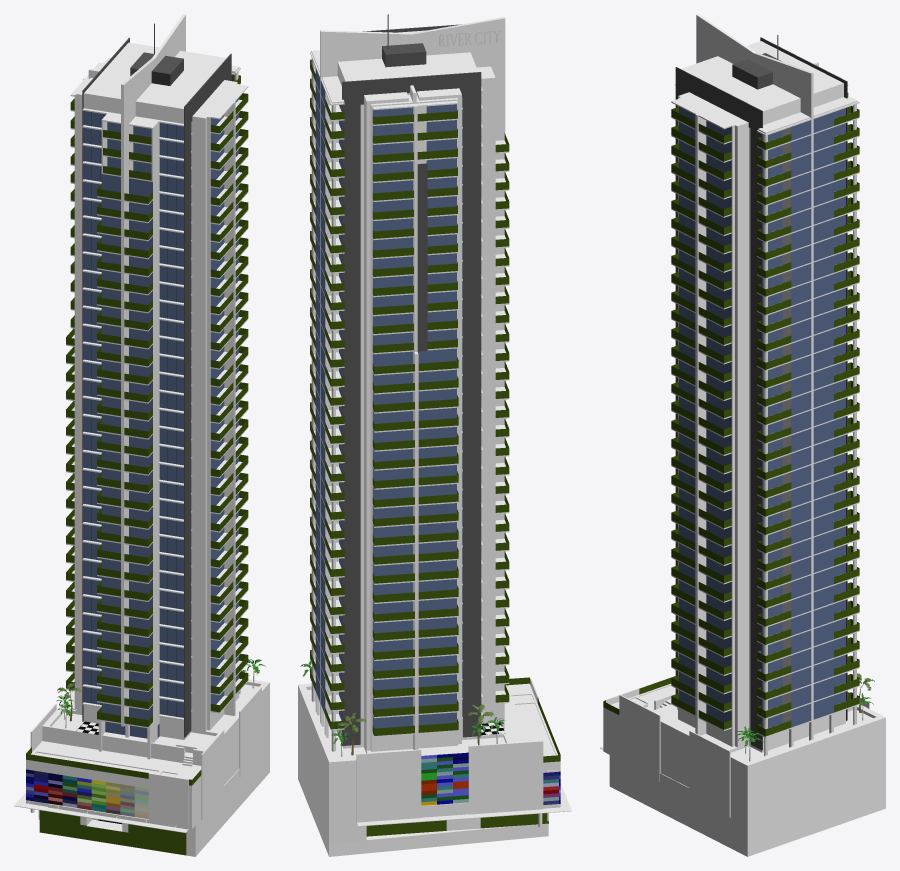
The picture shows the model from 3 angles, left to right: view 1: azimuth 30°, elevation 25°; view 2: azimuth 150°, elevation 25°; view 3: azimuth 270°, elevation 25°; orthographic projection. The views are drawn at different scales.
Visible parts, largest first — view 1: Layer0_001; view 2: Layer0_001; view 3: Layer0_001.
Boxes of the visible parts, left/top/right/bottom form: Layer0_001: left=14, top=14, right=269, bottom=856; Layer0_001: left=298, top=14, right=571, bottom=856; Layer0_001: left=600, top=14, right=885, bottom=856.
Size of the model in its own units: 45379 by 128118 by 42983.
